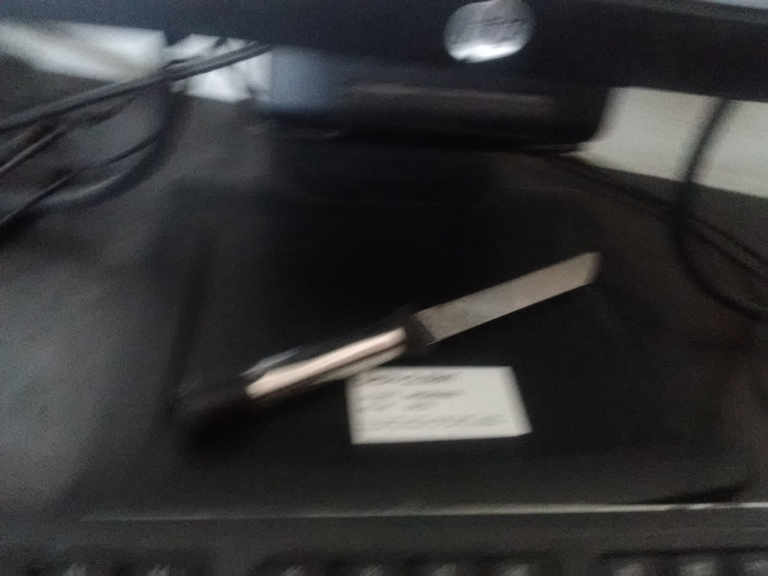knife: (168, 248, 604, 450)
